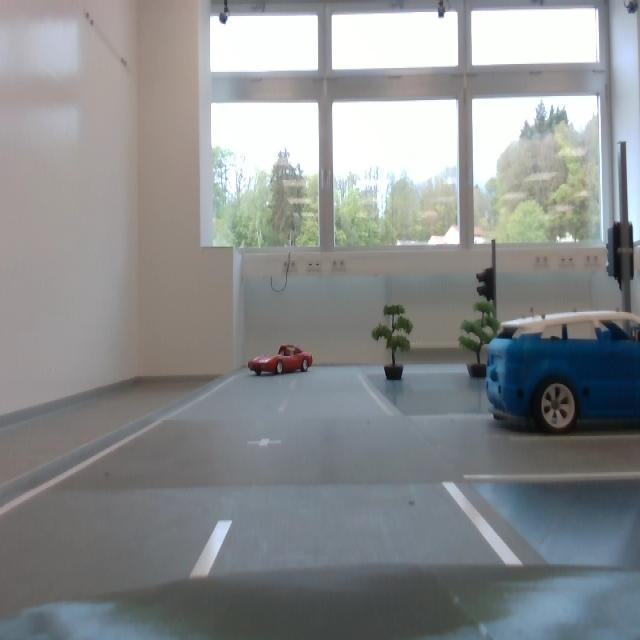car: (489, 304, 640, 434), (246, 340, 317, 380)
potted plant: (370, 302, 416, 366), (457, 303, 500, 365)
traffic light: (604, 225, 639, 284), (471, 265, 501, 306)
